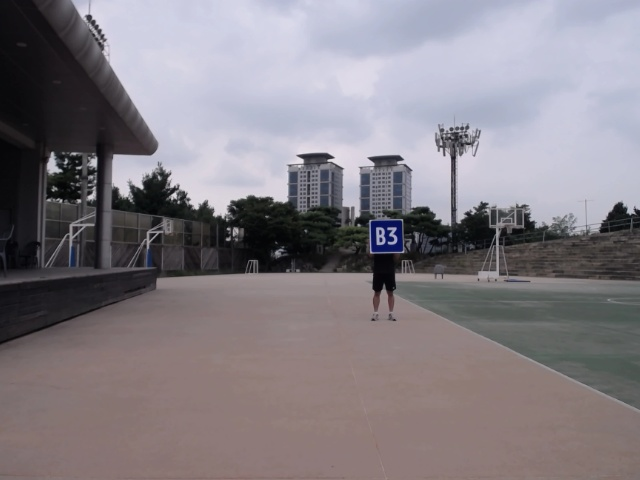delivery_b3: (369, 219, 405, 253)
